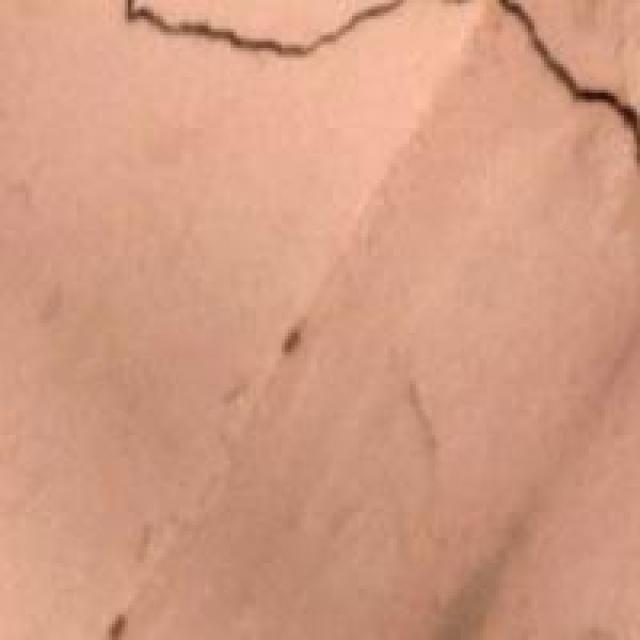Crack: (118, 0, 637, 173)
